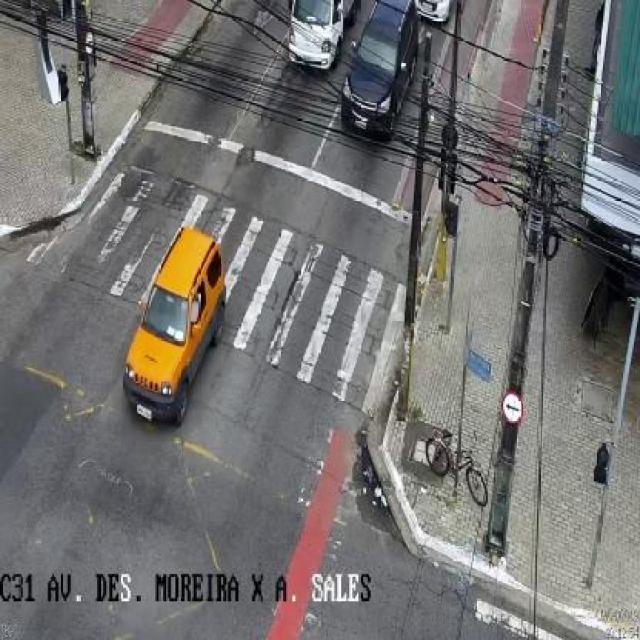Car: (104, 233, 231, 432), (345, 0, 428, 136), (270, 8, 350, 94)
Cycle: (388, 417, 501, 520)
